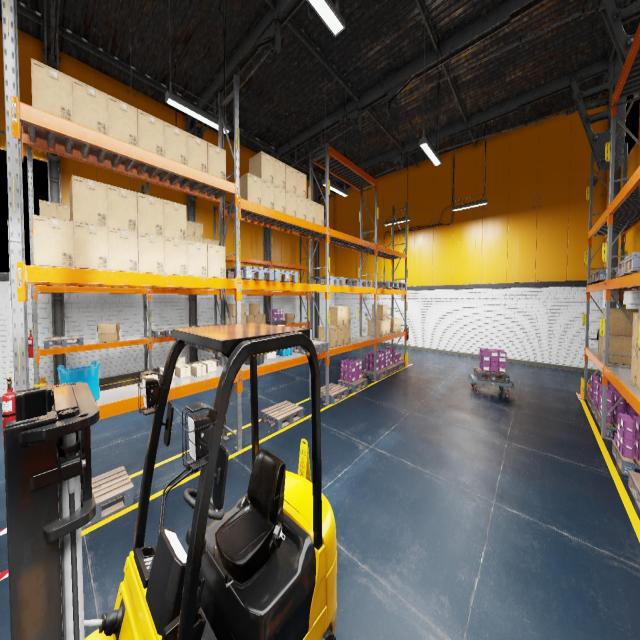box: (31, 58, 73, 122), (32, 215, 74, 267), (72, 78, 108, 134), (70, 175, 108, 227), (74, 222, 108, 270), (107, 94, 138, 146), (107, 184, 137, 232), (108, 228, 138, 272), (137, 108, 164, 156), (137, 192, 164, 236), (138, 232, 164, 274), (164, 121, 187, 165), (602, 308, 638, 336), (163, 199, 187, 240), (164, 237, 187, 275), (249, 151, 274, 184), (187, 132, 207, 173), (608, 334, 632, 365), (207, 142, 226, 180), (602, 334, 630, 359), (187, 241, 207, 276), (240, 172, 261, 205), (207, 244, 226, 278), (96, 323, 120, 342), (319, 326, 337, 348), (262, 179, 274, 209), (274, 158, 285, 189), (274, 185, 286, 213), (630, 348, 638, 389), (39, 200, 57, 218), (632, 312, 640, 351), (329, 306, 344, 326), (286, 164, 296, 194), (176, 357, 190, 378), (296, 170, 306, 198), (286, 190, 296, 216), (372, 304, 387, 320), (368, 319, 382, 336), (297, 194, 306, 220), (338, 306, 350, 325), (306, 198, 315, 223), (57, 203, 70, 220), (315, 202, 324, 226), (387, 318, 402, 332), (191, 363, 206, 377), (159, 367, 175, 379), (202, 360, 216, 373), (636, 352, 640, 392), (142, 374, 158, 383), (249, 303, 260, 315), (195, 222, 203, 238), (338, 326, 344, 346), (344, 325, 350, 344), (187, 220, 194, 236), (284, 313, 295, 323), (228, 303, 236, 316), (598, 331, 602, 356), (596, 329, 600, 351), (638, 313, 640, 352), (240, 303, 246, 316), (382, 320, 387, 335), (246, 315, 254, 322), (226, 316, 233, 324), (211, 239, 219, 245), (203, 238, 211, 244), (195, 236, 203, 242), (387, 319, 390, 334), (260, 314, 265, 323), (187, 235, 194, 241), (254, 316, 260, 322), (241, 316, 246, 323), (233, 316, 236, 323)
forklift: (4, 322, 336, 640)
pallets: (58, 466, 134, 540), (261, 401, 303, 430), (612, 440, 640, 475), (592, 402, 638, 422), (226, 266, 274, 280), (321, 383, 348, 404), (474, 367, 509, 383), (597, 412, 617, 438), (292, 340, 328, 354), (628, 470, 640, 510), (44, 336, 84, 348), (265, 269, 298, 282), (338, 378, 368, 392), (624, 252, 640, 274), (313, 276, 345, 286), (363, 368, 388, 380), (593, 269, 616, 282), (152, 328, 176, 338), (175, 362, 198, 372), (618, 260, 631, 276), (195, 359, 220, 366), (374, 281, 397, 288), (588, 273, 604, 283), (340, 278, 358, 286), (384, 364, 397, 375), (352, 280, 372, 287), (392, 360, 406, 370), (386, 282, 405, 289), (587, 392, 593, 410), (266, 320, 285, 325), (219, 357, 228, 363), (615, 267, 618, 278), (296, 346, 297, 349)
